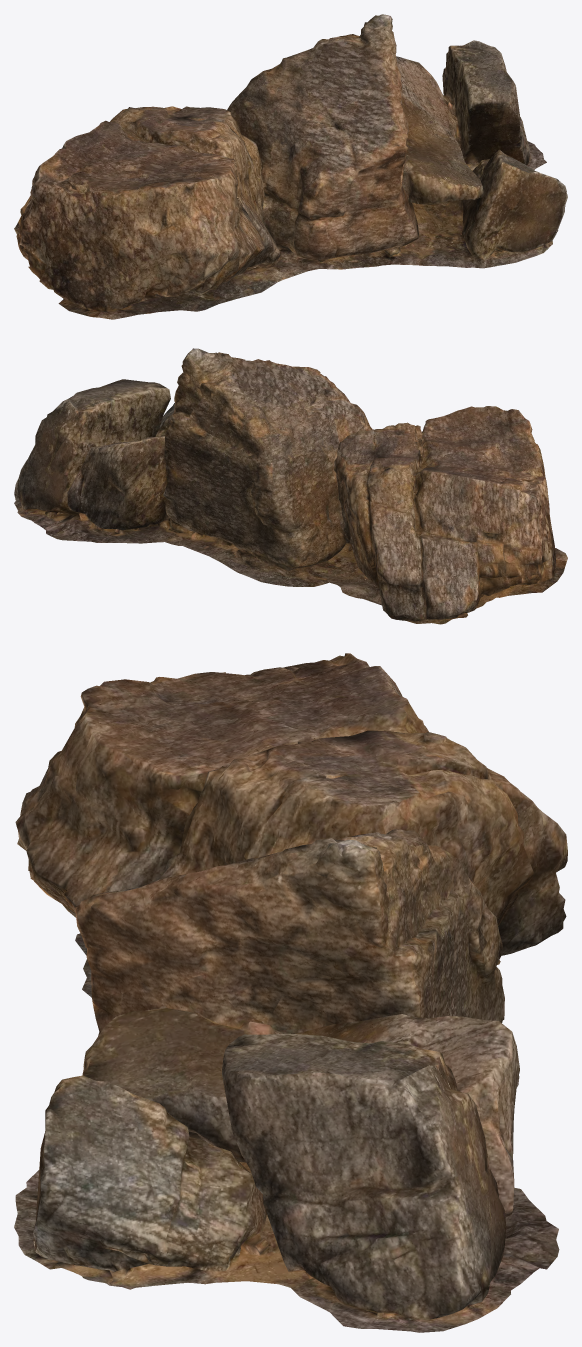
File: prop-boulder2-694bd088.glb
3 renders of one model, top to bottom at view 1: azimuth 30°, elevation 25°; view 2: azimuth 150°, elevation 25°; view 3: azimuth 270°, elevation 25°, orthographic. The views are drawn at different scales.
Visible parts, largest first — view 1: boulder_02; view 2: boulder_02; view 3: boulder_02.
Part boxes in pixels (x1,y1,x2,y2): boulder_02: (14,14,567,319); boulder_02: (14,348,567,624); boulder_02: (14,653,567,1332).
Bounding box in the file's own units: 2.53 × 0.8804 × 1.23.
1 material, 1 textured.
